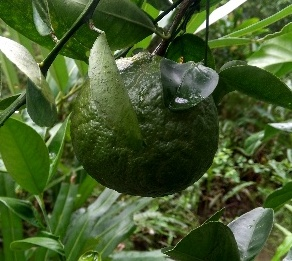Cam: (69, 49, 221, 199)
